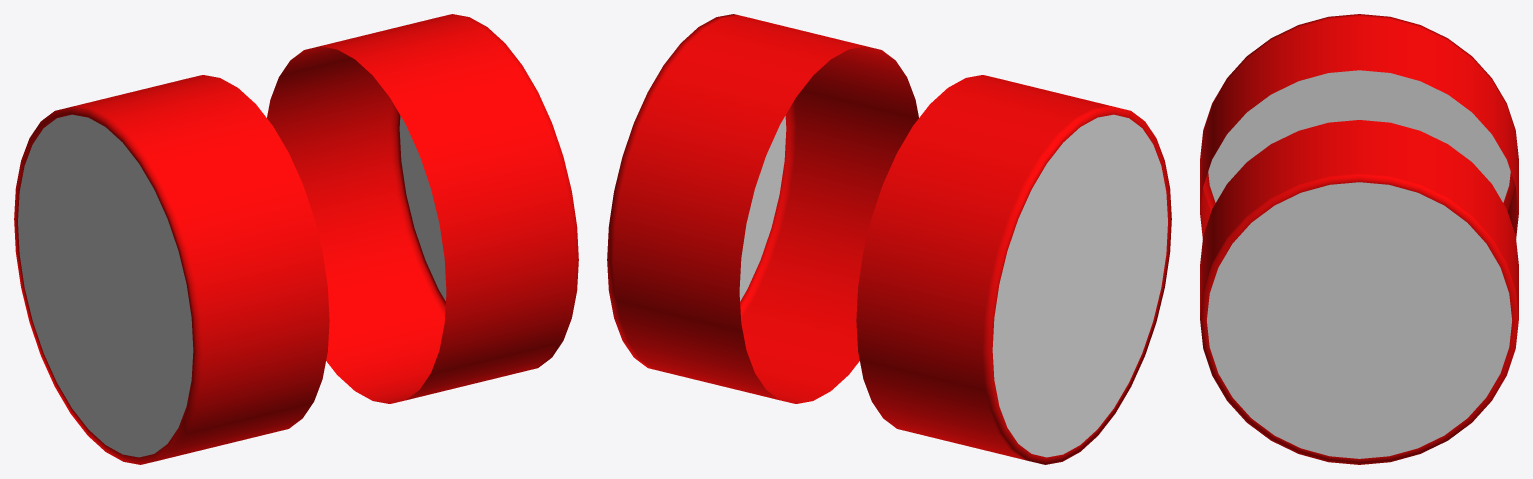
The picture shows the model from 3 angles, left to right: view 1: azimuth 30°, elevation 25°; view 2: azimuth 150°, elevation 25°; view 3: azimuth 270°, elevation 25°; orthographic projection. The views are drawn at different scales.
Visible parts, largest first — view 1: girdle_receptor_visual; view 2: girdle_receptor_visual; view 3: girdle_receptor_visual.
Part boxes in pixels (x1,y1,x2,y2): girdle_receptor_visual: (14, 14, 578, 464); girdle_receptor_visual: (607, 14, 1171, 464); girdle_receptor_visual: (1200, 14, 1518, 464).
Size of the model in its own units: 0.183 by 0.152 by 0.152.
